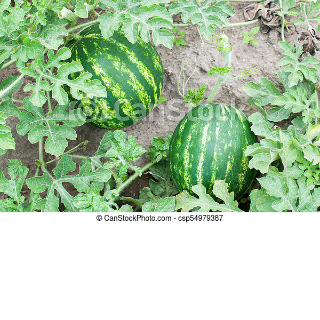dua_hau: (64, 26, 163, 128), (169, 98, 257, 208)
